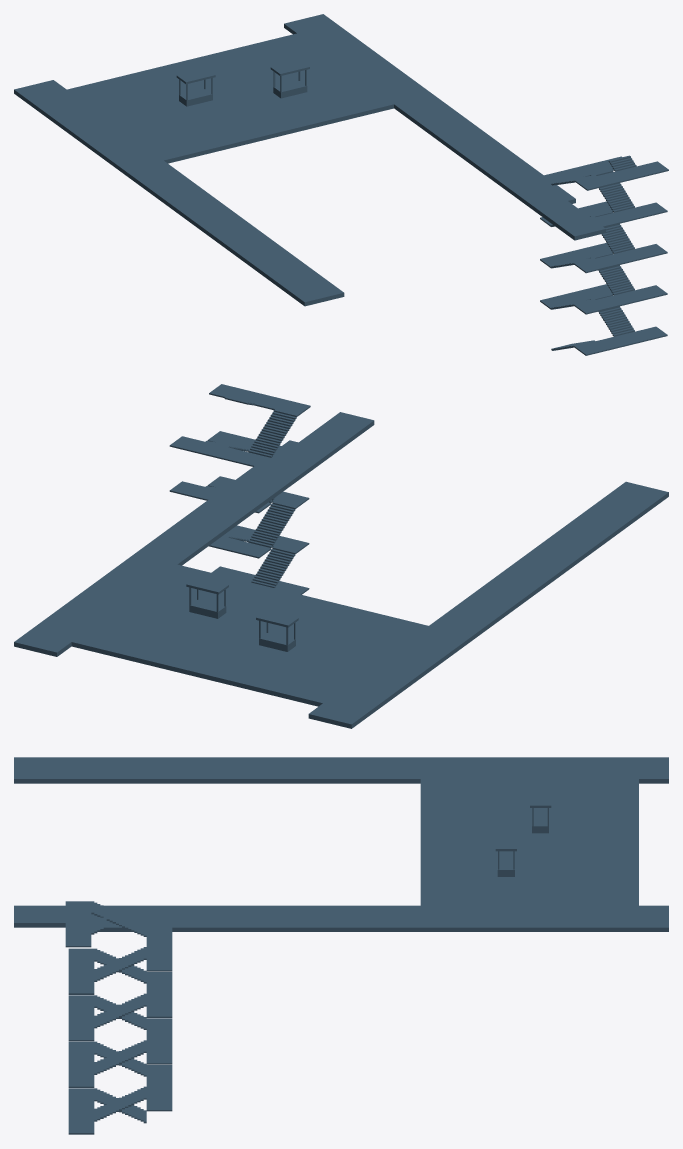
The model's file is v02-00-06-deck.glb.
3 views of the same model, one above another, from view 1: azimuth 30°, elevation 25°; view 2: azimuth 150°, elevation 25°; view 3: azimuth 270°, elevation 25° (orthographic). The views are drawn at different scales.
Visible parts, largest first — view 1: v02-00-06-deck; view 2: v02-00-06-deck; view 3: v02-00-06-deck.
Part boxes in pixels (left/top/right/bottom): v02-00-06-deck: left=14, top=14, right=668, bottom=355; v02-00-06-deck: left=14, top=384, right=668, bottom=728; v02-00-06-deck: left=14, top=757, right=668, bottom=1134.
Size of the model in its own units: 58.8 by 27.98 by 76.5.
